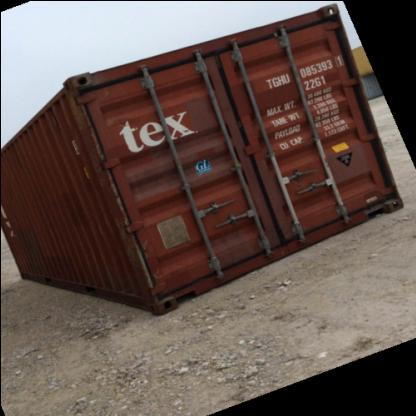Damage: (110, 169, 134, 227), (82, 100, 102, 160), (133, 240, 157, 283)
